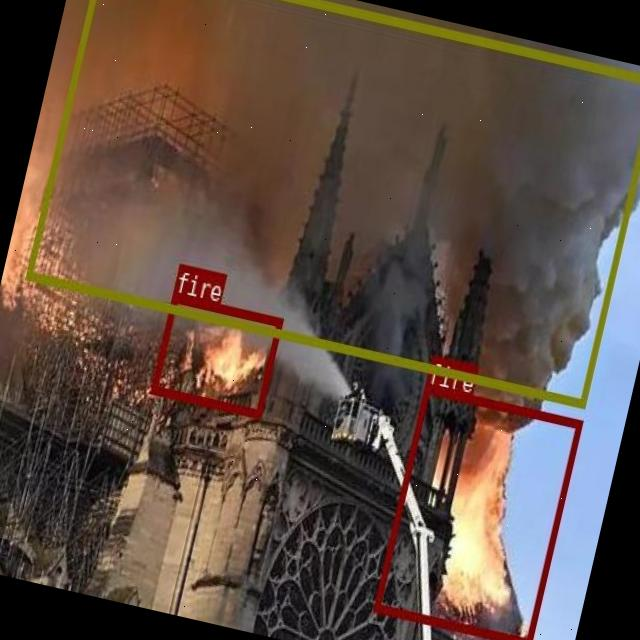fire: (372, 383, 581, 640), (150, 292, 282, 417)
smoke: (24, 0, 640, 407)
